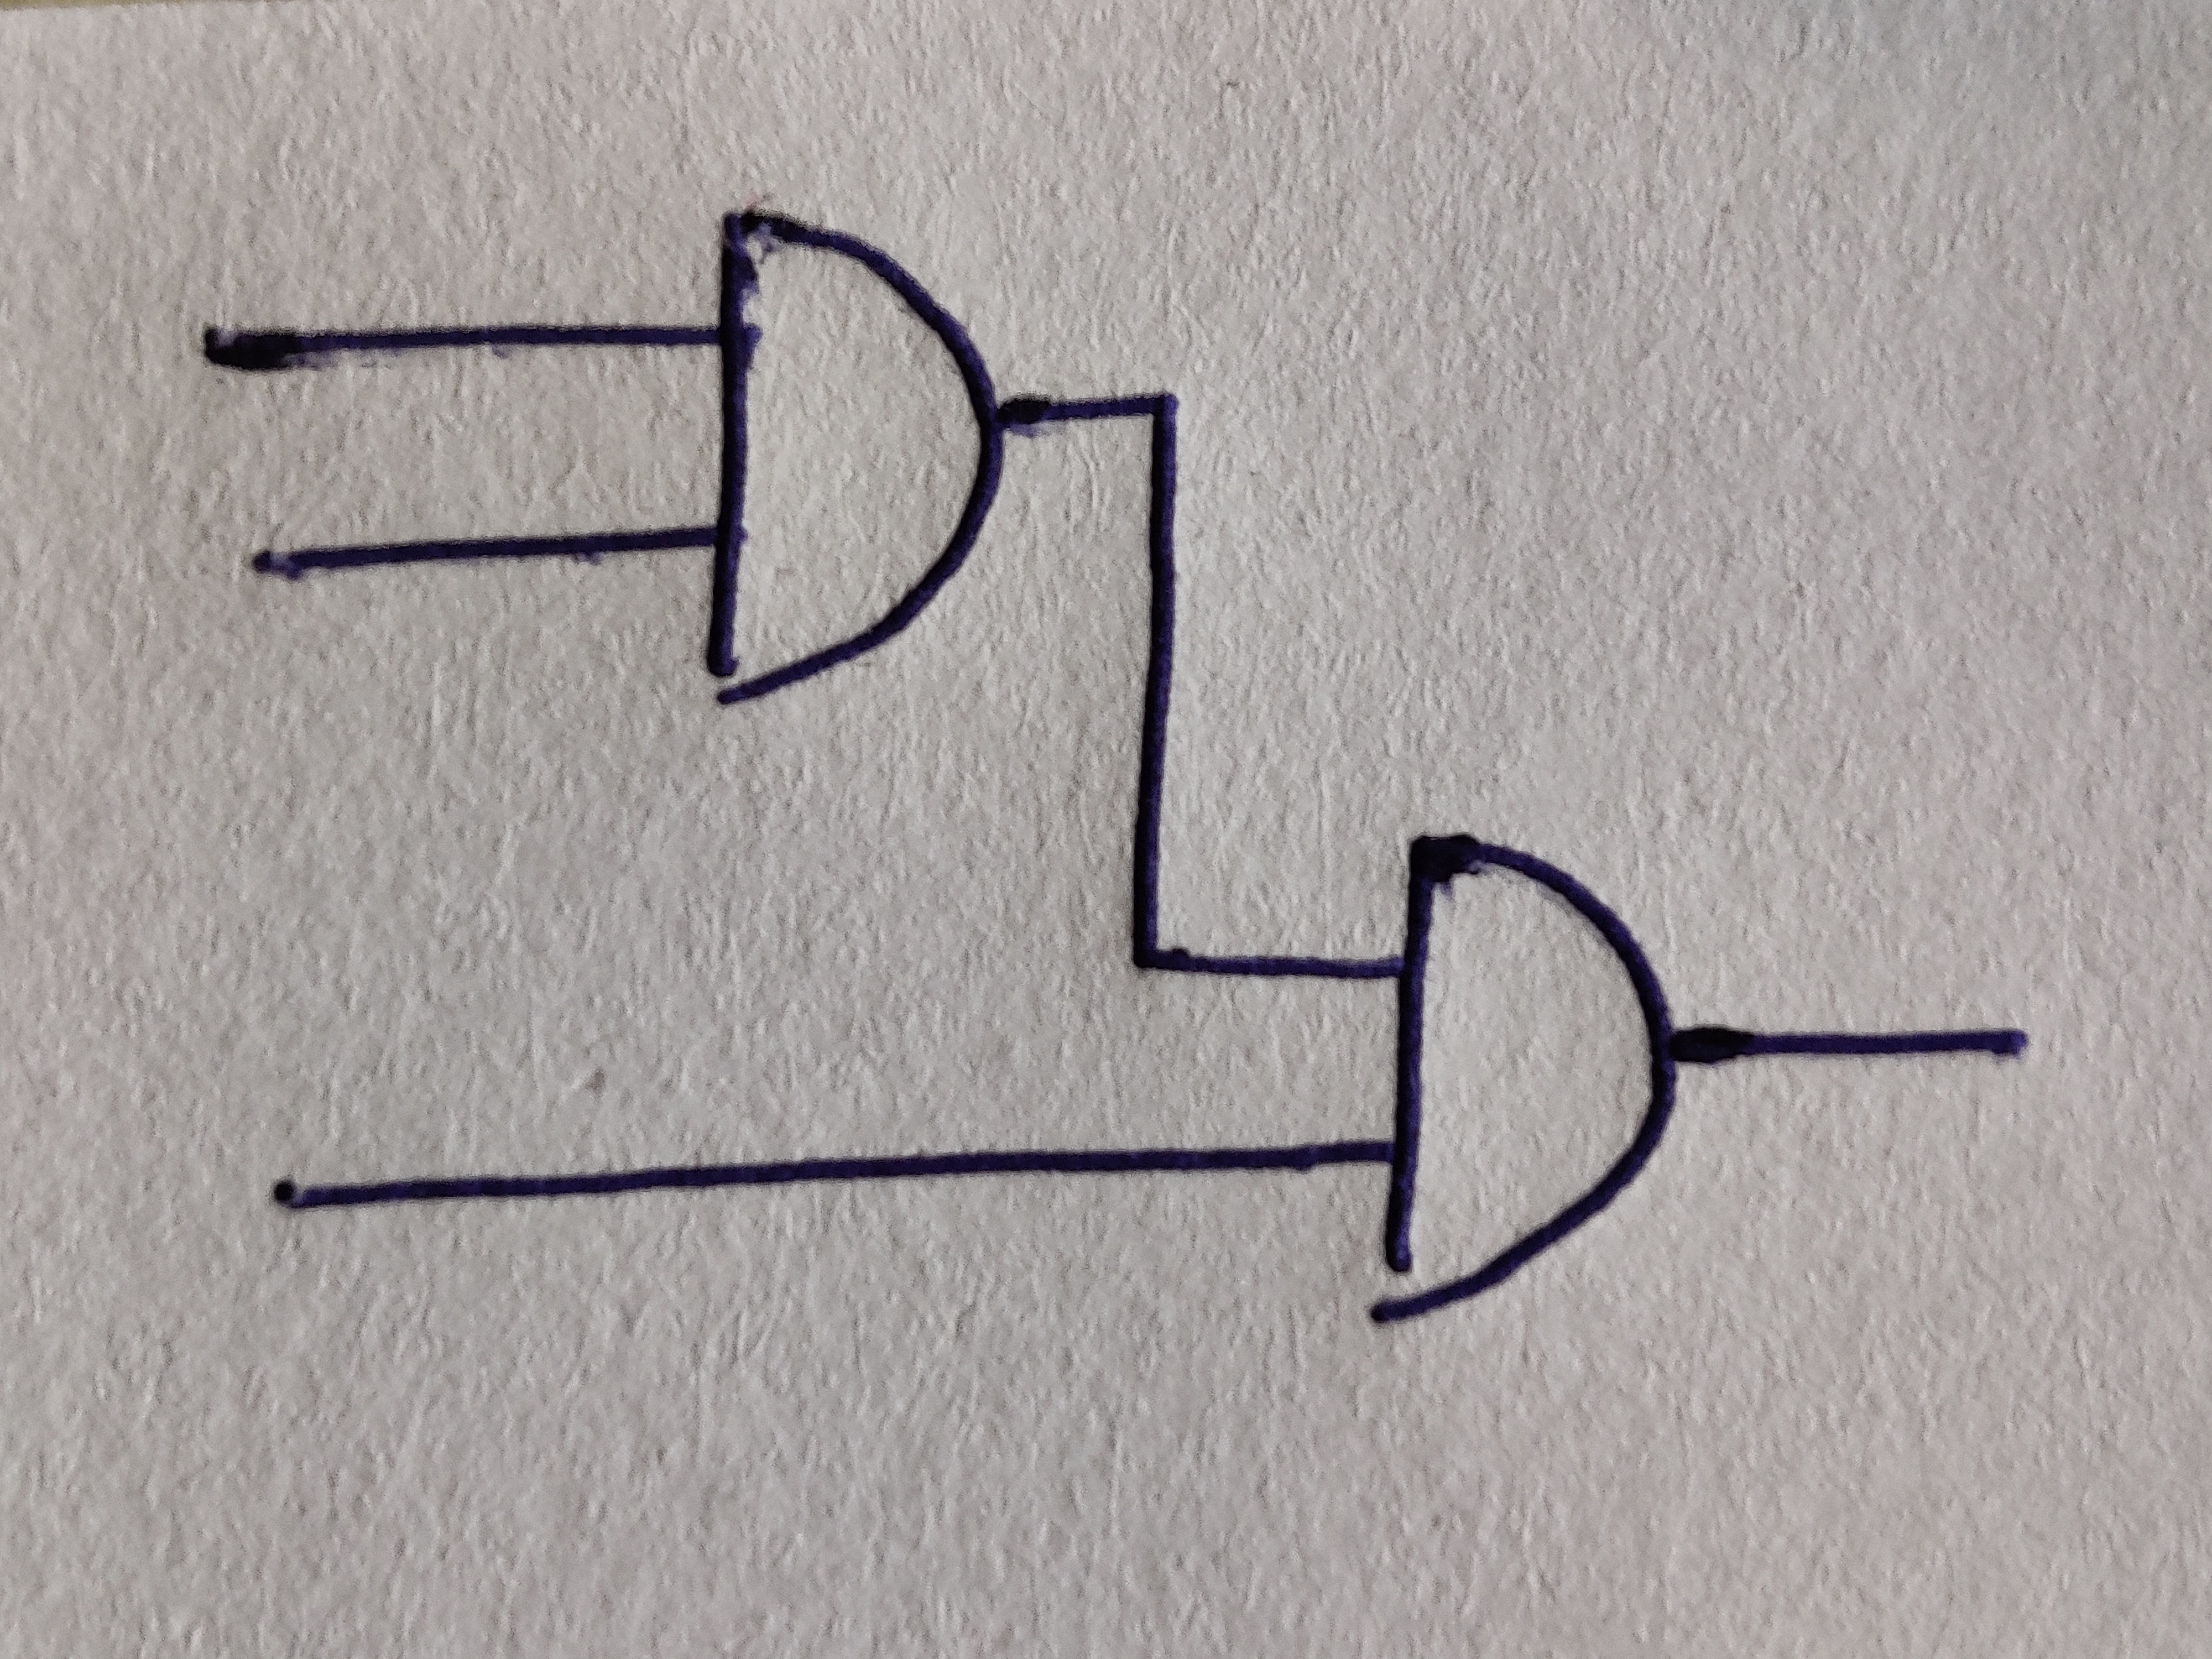and: (1367, 835, 1677, 1321), (707, 213, 1003, 708)
